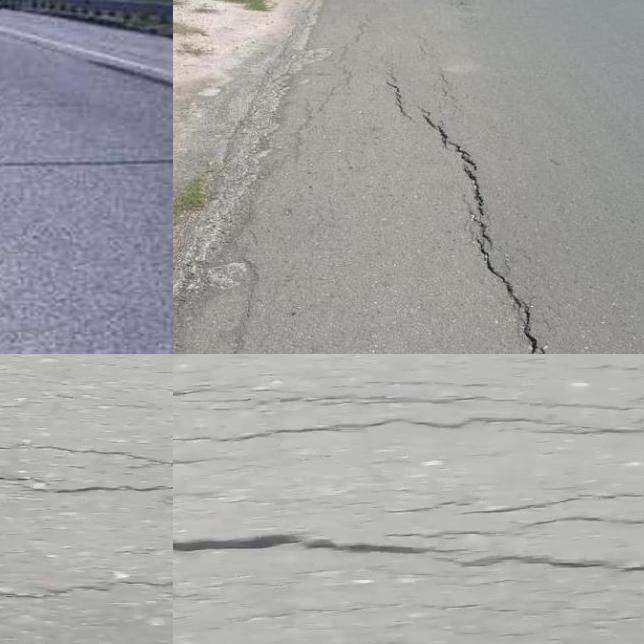Melintang: (173, 522, 644, 580), (173, 409, 644, 459), (0, 566, 173, 614), (0, 467, 173, 512)
Memanjang: (368, 77, 561, 354)
